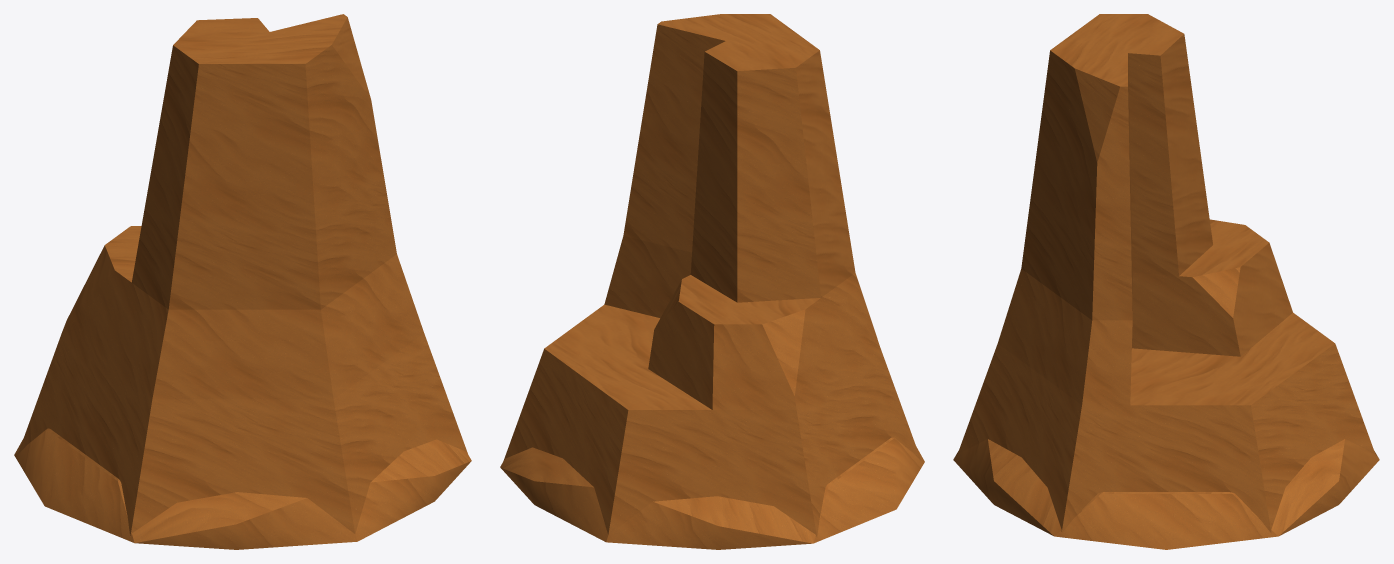
The model's file is rock3.glb.
3 renders of one model, left to right at view 1: azimuth 30°, elevation 25°; view 2: azimuth 150°, elevation 25°; view 3: azimuth 270°, elevation 25°, orthographic. The views are drawn at different scales.
Bounding box in the file's own units: 25 × 26.48 × 25.
2 materials, 1 textured.
